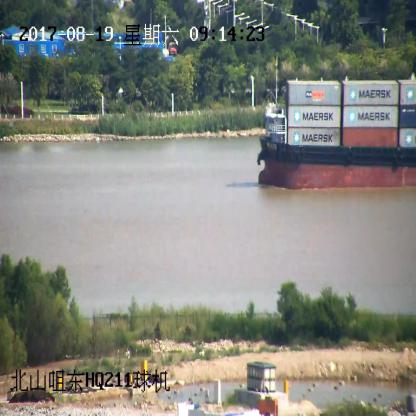Container Ship: (258, 78, 415, 190)
